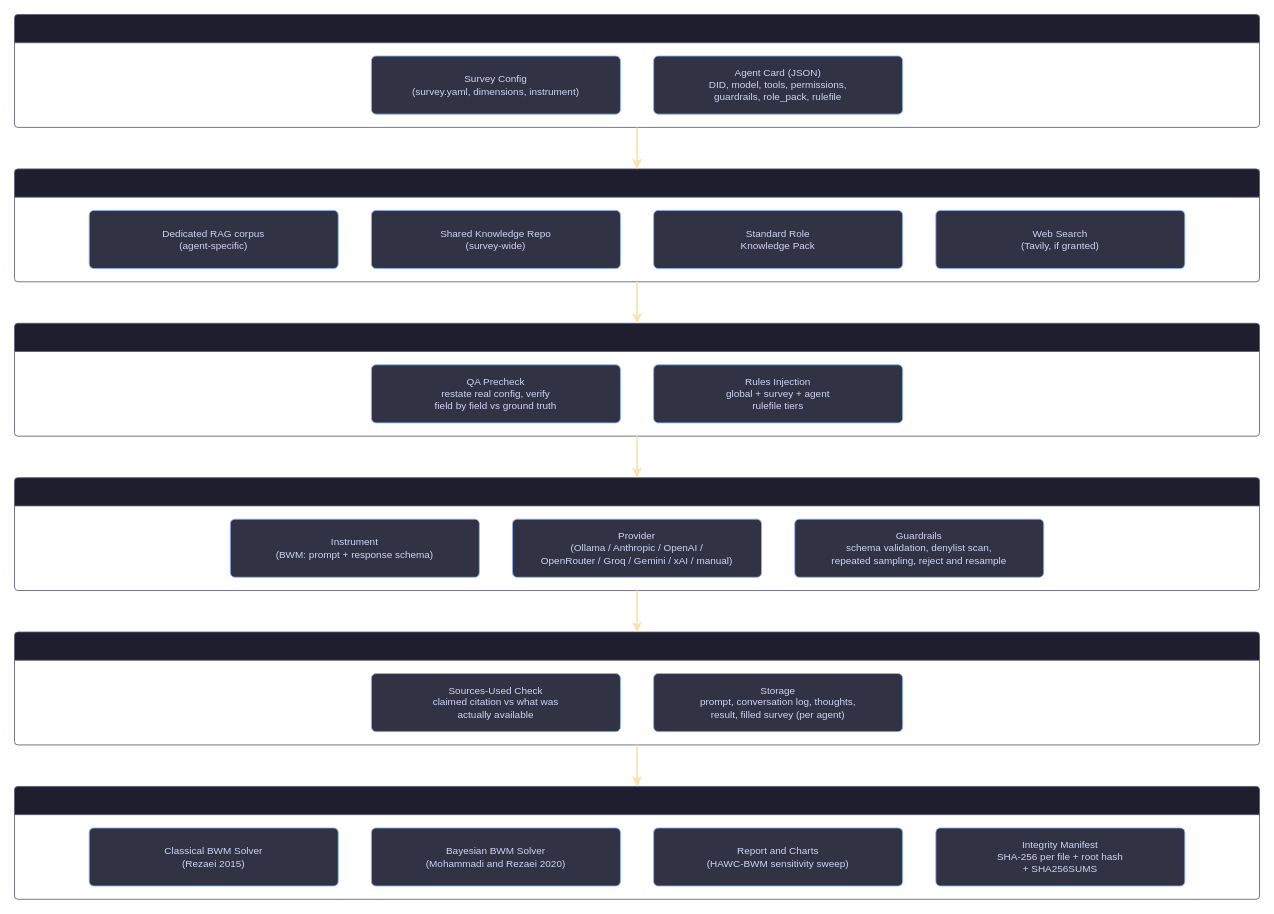
Image size: 1274x914. Some labels were removed from this diagram. The box of each missing label's shape, as (x1, y1, x2, y2) in pixels:
Configuration: (14, 14, 1260, 127)
Execution: (14, 477, 1260, 591)
Grounding (per agent): (14, 168, 1260, 282)
Synthesis and trust: (14, 786, 1260, 899)
Verification after answering: (14, 631, 1260, 745)
Verification before answering: (14, 322, 1260, 436)
